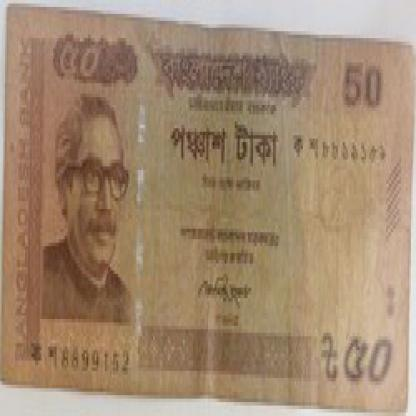Fifty taka: (55, 21, 111, 104), (338, 322, 394, 399)
